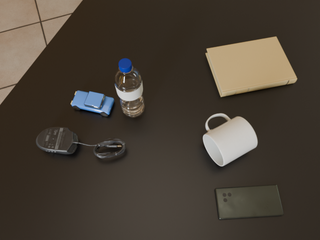book: (206, 37, 297, 97)
bottle: (114, 58, 145, 118)
cup: (203, 114, 257, 166)
mouse: (36, 127, 79, 154)
phone: (215, 185, 283, 219)
toy_car: (71, 90, 114, 116)
